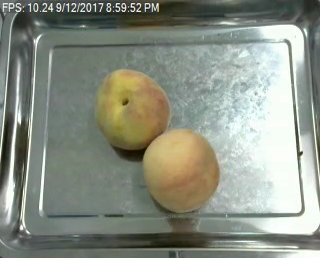Peach: (142, 127, 221, 212), (95, 68, 171, 150)
